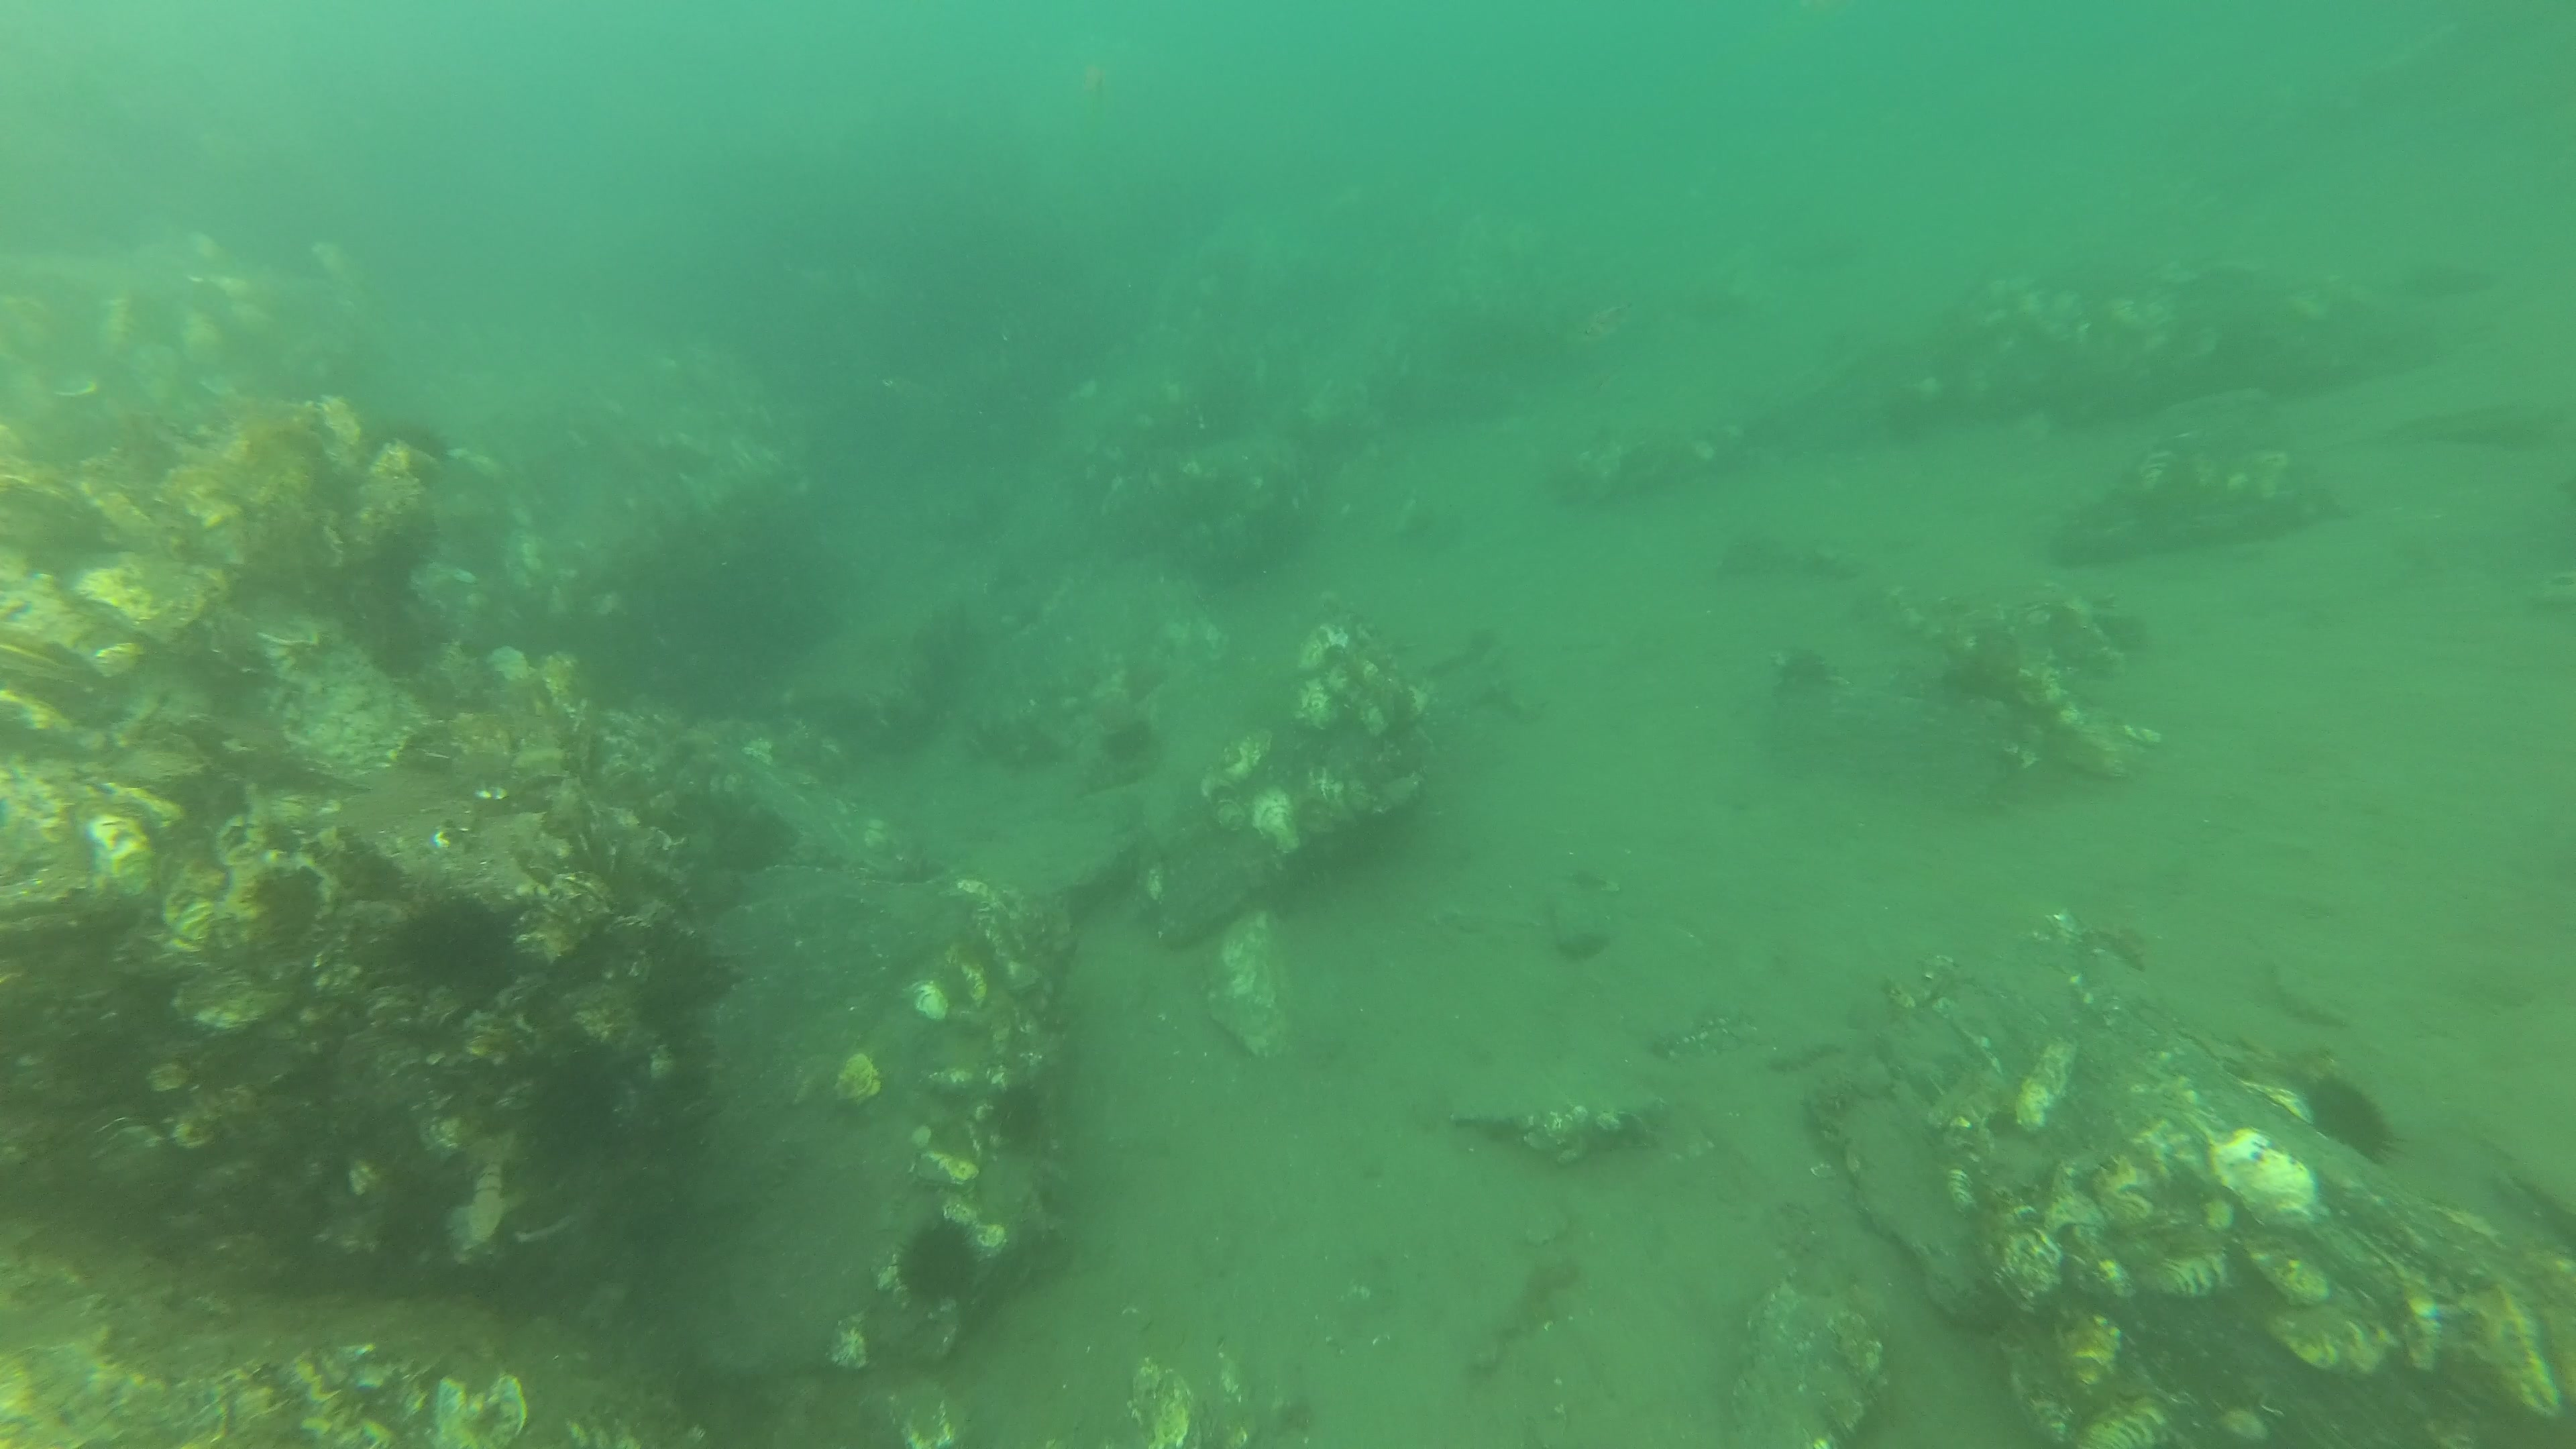echinus: (398, 901, 499, 991), (897, 1212, 985, 1315), (2314, 1067, 2397, 1173), (370, 414, 464, 467)
